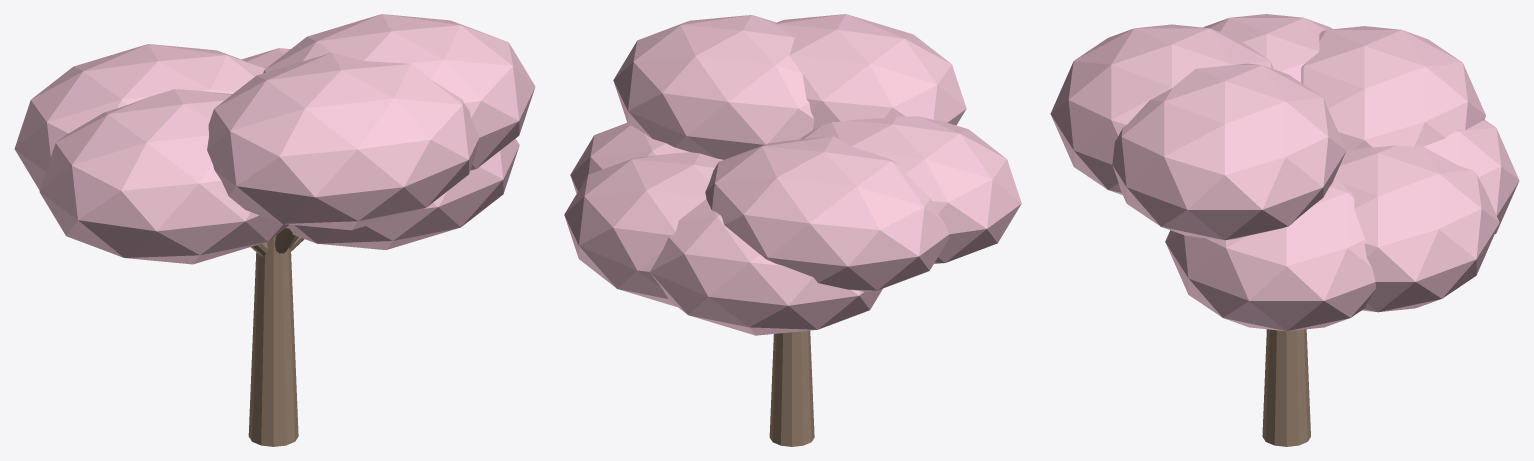
Rendered from cherry.glb.
3 views of the same model, side by side, from view 1: azimuth 30°, elevation 25°; view 2: azimuth 150°, elevation 25°; view 3: azimuth 270°, elevation 25° (orthographic). The views are drawn at different scales.
Parts seen in each view (by area): view 1: cherry_006, cherry_010, cherry_012, cherry_004, cherry_000, cherry_002; view 2: cherry_004, cherry_012, cherry_014, cherry_006, cherry_008, cherry_010, cherry_000, cherry_002; view 3: cherry_012, cherry_002, cherry_008, cherry_004, cherry_006, cherry_000, cherry_010, cherry_014.
Part boxes in pixels (<box>): cherry_006: <box>207,52,478,230</box>; cherry_010: <box>39,89,289,264</box>; cherry_012: <box>263,14,535,170</box>; cherry_004: <box>14,44,265,190</box>; cherry_000: <box>248,235,298,446</box>; cherry_002: <box>286,138,519,249</box>; cherry_004: <box>705,136,949,291</box>; cherry_012: <box>613,15,814,159</box>; cherry_014: <box>650,199,882,335</box>; cherry_006: <box>775,14,966,129</box>; cherry_008: <box>564,152,723,306</box>; cherry_010: <box>799,116,1021,263</box>; cherry_000: <box>769,330,814,446</box>; cherry_002: <box>570,123,689,193</box>; cherry_012: <box>1112,63,1346,240</box>; cherry_002: <box>1165,177,1376,331</box>; cherry_008: <box>1335,145,1499,312</box>; cherry_004: <box>1301,26,1485,150</box>; cherry_006: <box>1050,24,1273,195</box>; cherry_000: <box>1262,329,1310,446</box>; cherry_010: <box>1203,14,1332,82</box>; cherry_014: <box>1424,120,1519,233</box>.
Bounding box in the file's own units: 3.97 × 3.42 × 3.67.
